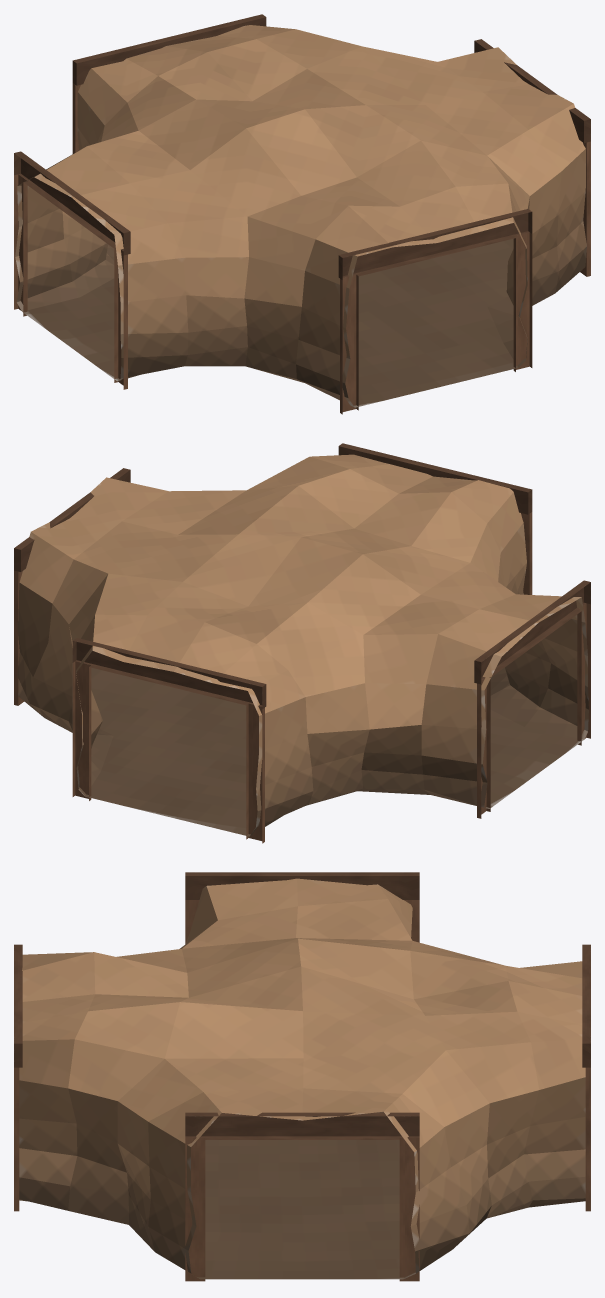
File: SM_XJunction.fbx
3 views of the same model, one above another, from view 1: azimuth 30°, elevation 25°; view 2: azimuth 150°, elevation 25°; view 3: azimuth 270°, elevation 25° (orthographic). The views are drawn at different scales.
Parts seen in each view (by area): view 1: X Junction.002, X Junction, X Junction.003, Support -y, Support -x, Support y, Support x; view 2: X Junction.002, X Junction, X Junction.003, Support y, Support -x, Support -y, Support x; view 3: X Junction.002, X Junction, X Junction.003, Support x, Support -x, Support y, Support -y.
Boxes of the visible parts, bbox=[...] form: X Junction.002: bbox=[34, 25, 573, 256]; X Junction: bbox=[15, 68, 586, 407]; X Junction.003: bbox=[22, 238, 518, 407]; Support -y: bbox=[338, 209, 532, 414]; Support -x: bbox=[14, 151, 130, 389]; Support y: bbox=[72, 14, 266, 153]; Support x: bbox=[474, 39, 590, 276]; X Junction.002: bbox=[31, 454, 581, 690]; X Junction: bbox=[17, 492, 588, 835]; X Junction.003: bbox=[85, 667, 584, 836]; Support y: bbox=[72, 638, 266, 843]; Support -x: bbox=[474, 580, 590, 818]; Support -y: bbox=[338, 443, 532, 594]; Support x: bbox=[14, 468, 130, 705]; X Junction.002: bbox=[22, 878, 582, 1120]; X Junction: bbox=[19, 885, 585, 1278]; X Junction.003: bbox=[200, 1111, 403, 1279]; Support x: bbox=[185, 1112, 419, 1281]; Support -x: bbox=[185, 872, 419, 944]; Support y: bbox=[582, 944, 590, 1211]; Support -y: bbox=[14, 944, 22, 1211].
Bounding box in the file's own units: 1000 × 375 × 1000.
